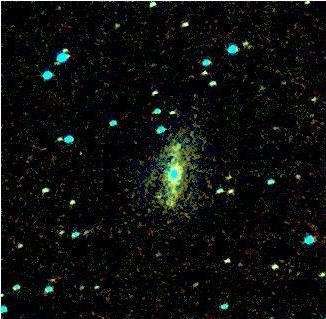star: (160, 137, 190, 167)
